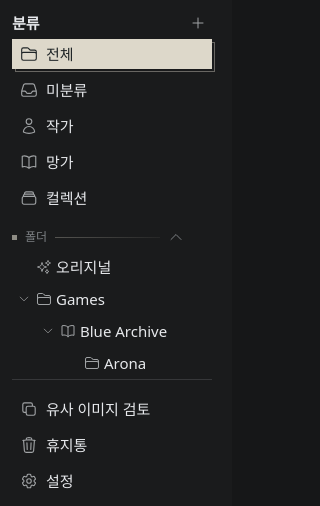
Scenario: ClassificationSidebar › keeps the Originals root visible but protects its storage-only identity
Right-click the list item "오리지널" at (74, 267), box x1=36 y1=257 x2=111 y2=277
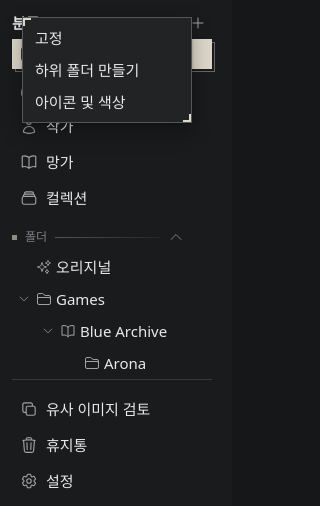
Expected: the menu item "하위 폴더 만들기" is shown, x1=27 y1=54 x2=187 y2=86
Expected: the menu item "아이콘 및 색상" is shown, x1=27 y1=86 x2=187 y2=118
